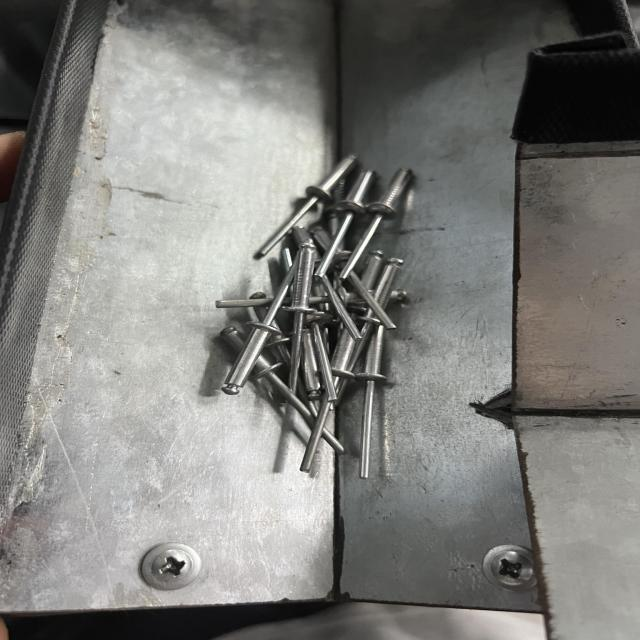rivet: (223, 252, 306, 401), (254, 156, 360, 259), (290, 242, 316, 466)
